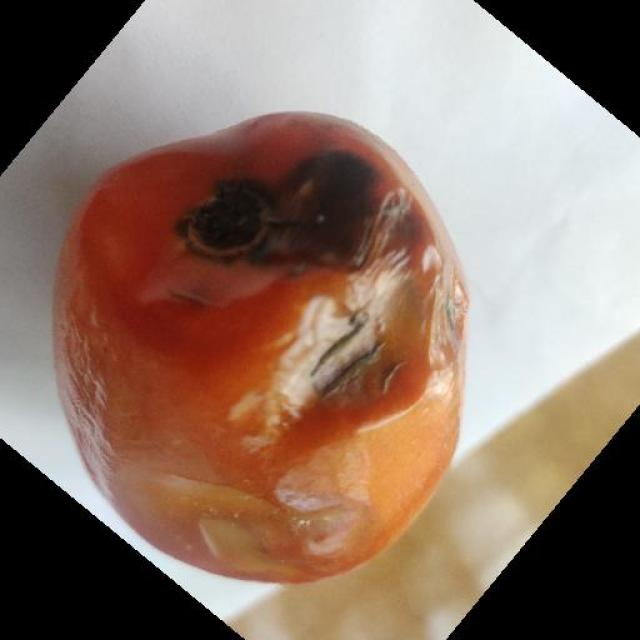Stale_tomato: (58, 145, 517, 578)
